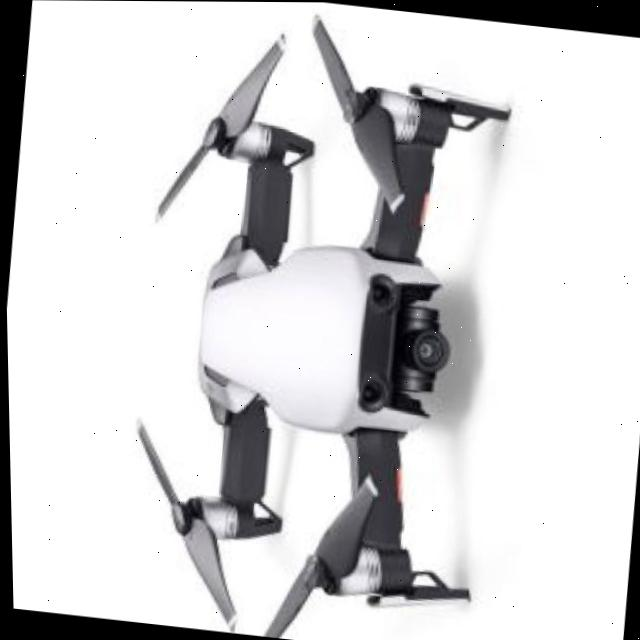drones: (78, 0, 540, 640)
